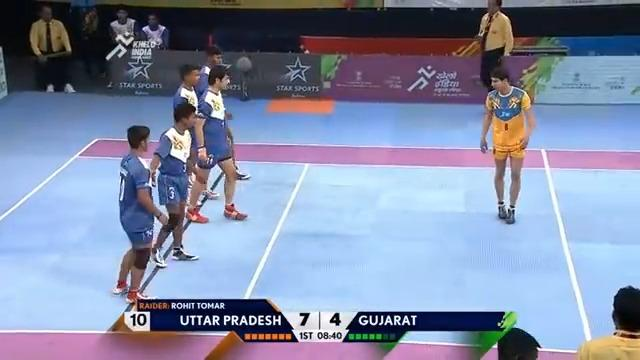Player: (111, 124, 169, 304), (185, 64, 249, 223), (148, 102, 200, 268), (172, 63, 219, 200), (574, 284, 639, 359), (108, 7, 139, 47), (141, 13, 169, 49)
Raider: (479, 66, 536, 224)
referee: (28, 4, 74, 92), (472, 0, 514, 93)
